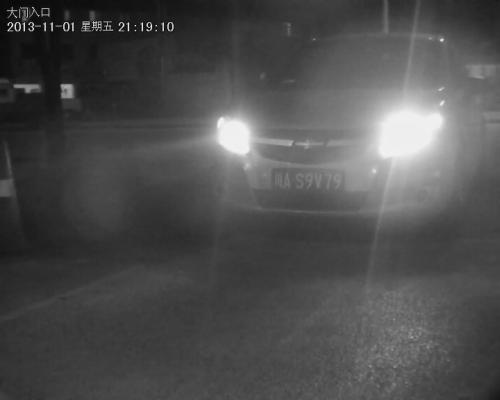Carplate: (270, 166, 347, 195)
